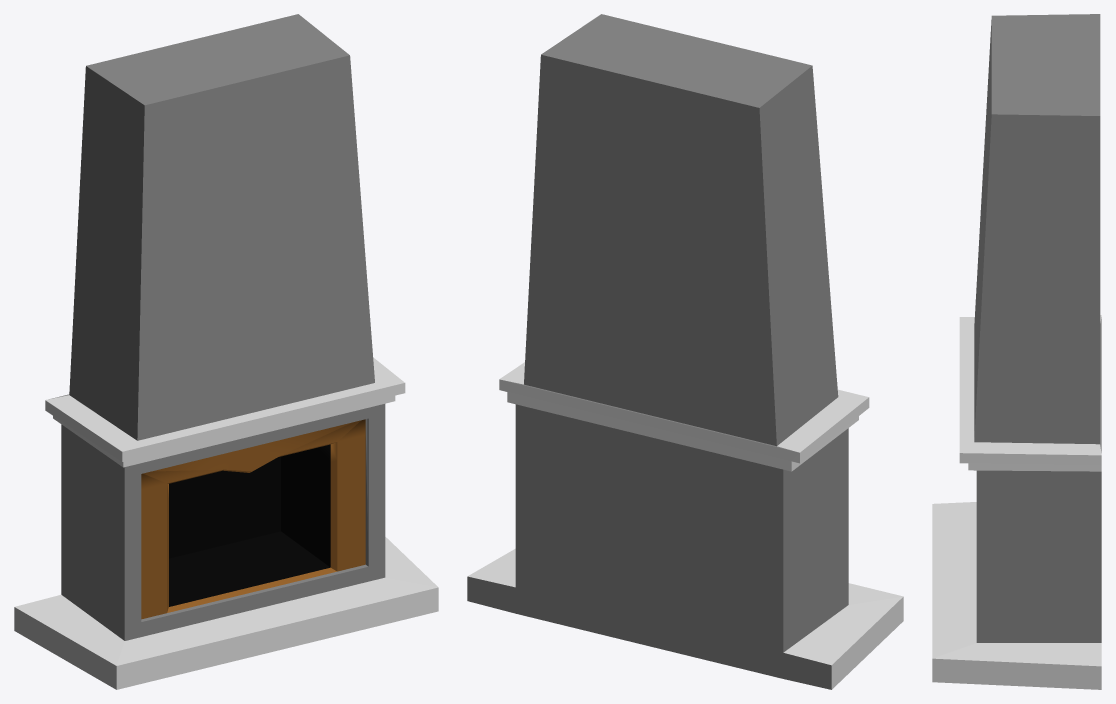
File: Cheminée_gamejam.fbx
3 renders of one model, left to right at view 1: azimuth 30°, elevation 25°; view 2: azimuth 150°, elevation 25°; view 3: azimuth 270°, elevation 25°, orthographic. The views are drawn at different scales.
Parts seen in each view (by area): view 1: Cheminée; view 2: Cheminée; view 3: Cheminée.
Part boxes in pixels (x1,y1,x2,y2): Cheminée: (14,14,438,689); Cheminée: (467,14,903,689); Cheminée: (932,14,1101,689).
Bounding box in the file's own units: 218 × 322 × 91.69.
